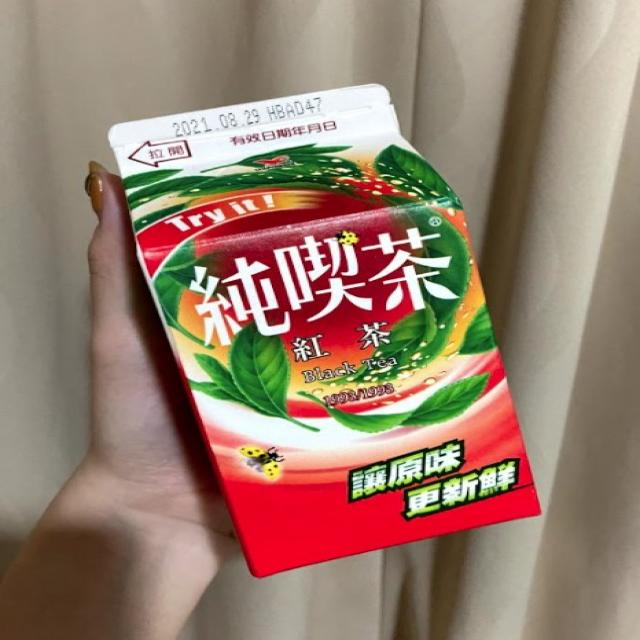non_white_jug: (74, 66, 576, 596)
